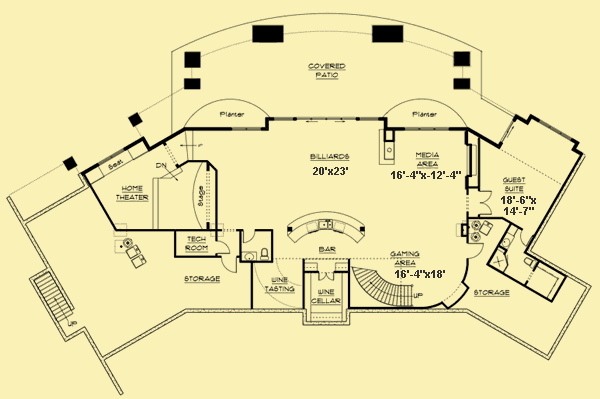door: (219, 254, 240, 276), (477, 189, 493, 215), (465, 241, 484, 260), (316, 268, 338, 282), (215, 239, 232, 255), (240, 229, 258, 244)
kitchen_bar: (286, 207, 367, 246)
large_sink: (522, 258, 540, 269), (259, 246, 269, 261)
small_sink: (240, 251, 259, 261)
stairs: (28, 268, 83, 344), (352, 263, 415, 308)
